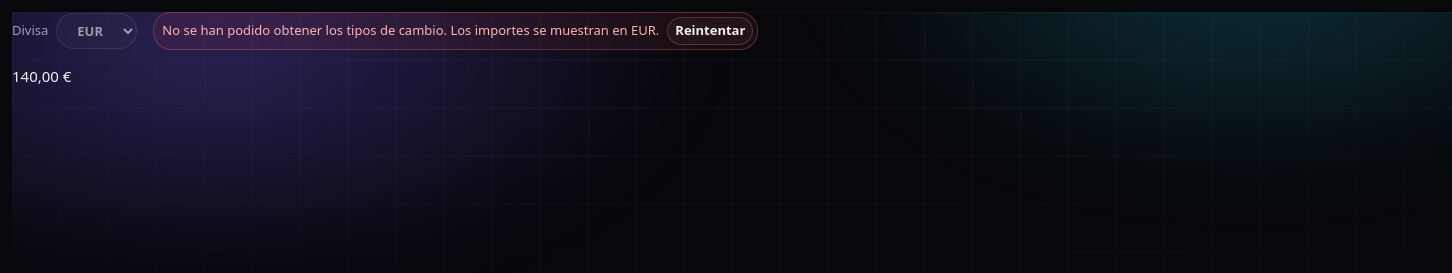
Test case: CurrencySelector › CA-102: tras el fallo, al reintentar con la API ya disponible se habilita el selector
Click the button "Reintentar".
click(710, 31)  # box [667,17,753,45]
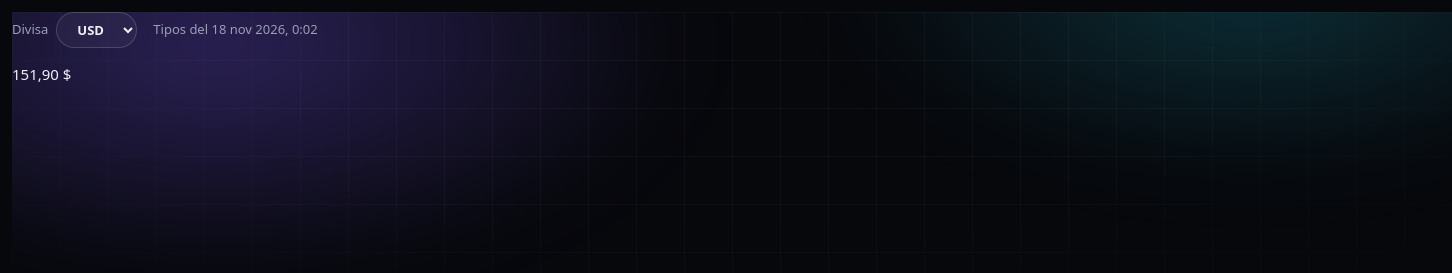
Now the dropdown labelled "Divisa" is enabled, box [56,12,137,48]
Now the dropdown labelled "Divisa" shows "USD", box [56,12,137,48]
Now the message is gone
